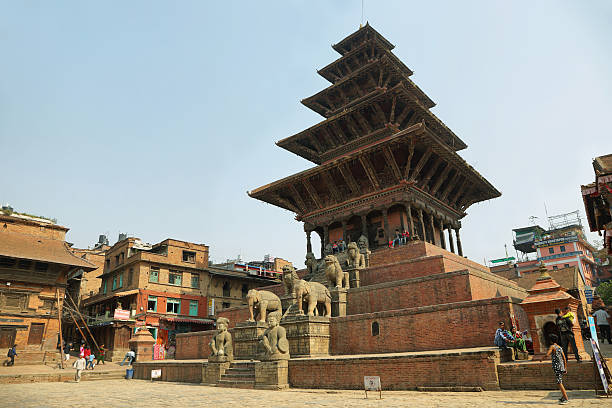nyathapola: (229, 13, 505, 385)
